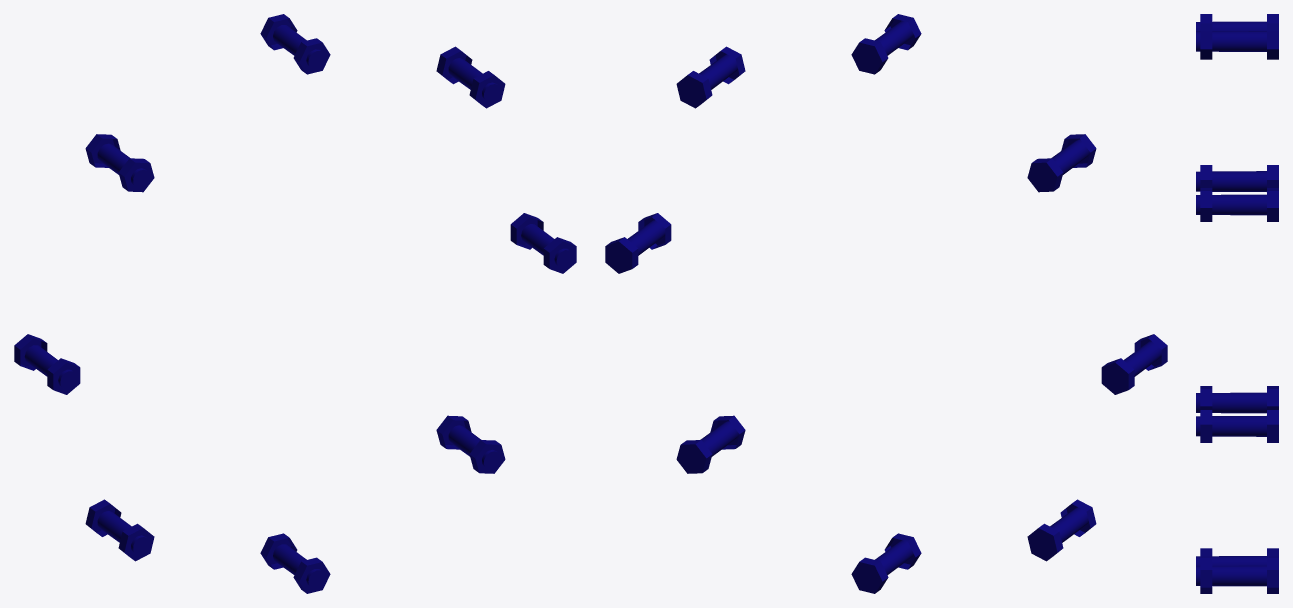
File: Bolt_x8_02_LOD0.FBX
3 renders of one model, left to right at view 1: azimuth 30°, elevation 25°; view 2: azimuth 150°, elevation 25°; view 3: azimuth 270°, elevation 25°, orthographic.
Parts seen in each view (by area): view 1: Bolt_02_LOD0; view 2: Bolt_02_LOD0; view 3: Bolt_02_LOD0.
Part boxes in pixels (x1=…): Bolt_02_LOD0: x1=14, y1=14, x2=576, y2=593; Bolt_02_LOD0: x1=605, y1=14, x2=1167, y2=593; Bolt_02_LOD0: x1=1196, y1=14, x2=1278, y2=593.
Bounding box in the file's own units: 36.9 × 36.9 × 5.01.
